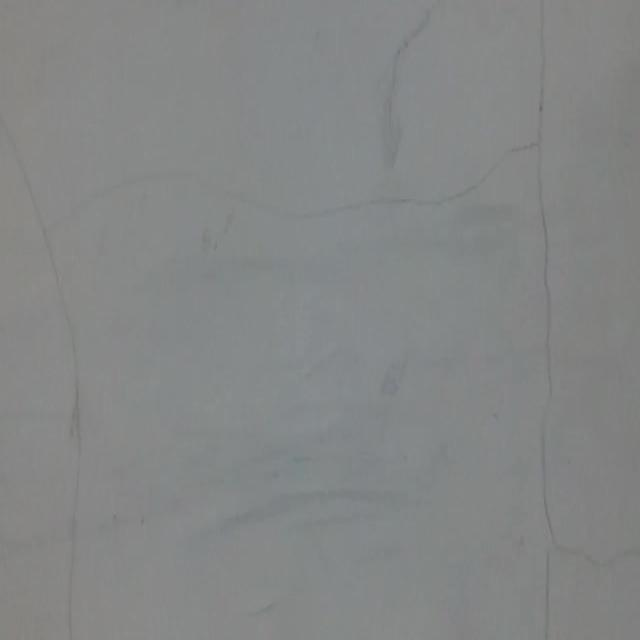Crack: (0, 0, 166, 640), (529, 0, 577, 614), (300, 132, 528, 218)
